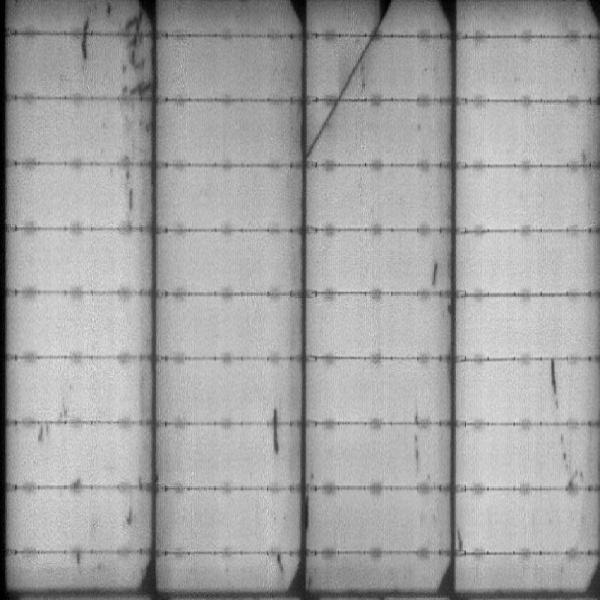broken: (307, 1, 397, 158)
scratch: (126, 15, 152, 92), (118, 168, 149, 220), (542, 359, 566, 415), (552, 434, 578, 480), (266, 401, 283, 458), (79, 16, 98, 63), (410, 411, 423, 474), (270, 551, 290, 577), (428, 258, 439, 289), (123, 501, 137, 525), (455, 531, 470, 550), (31, 425, 51, 439)
